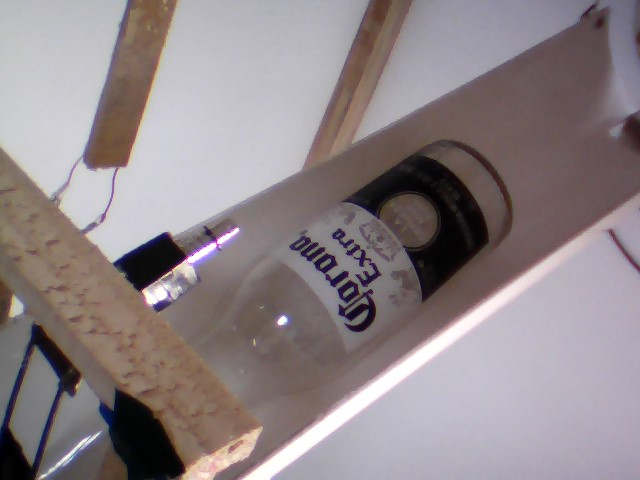vidrio: (172, 138, 517, 410)
